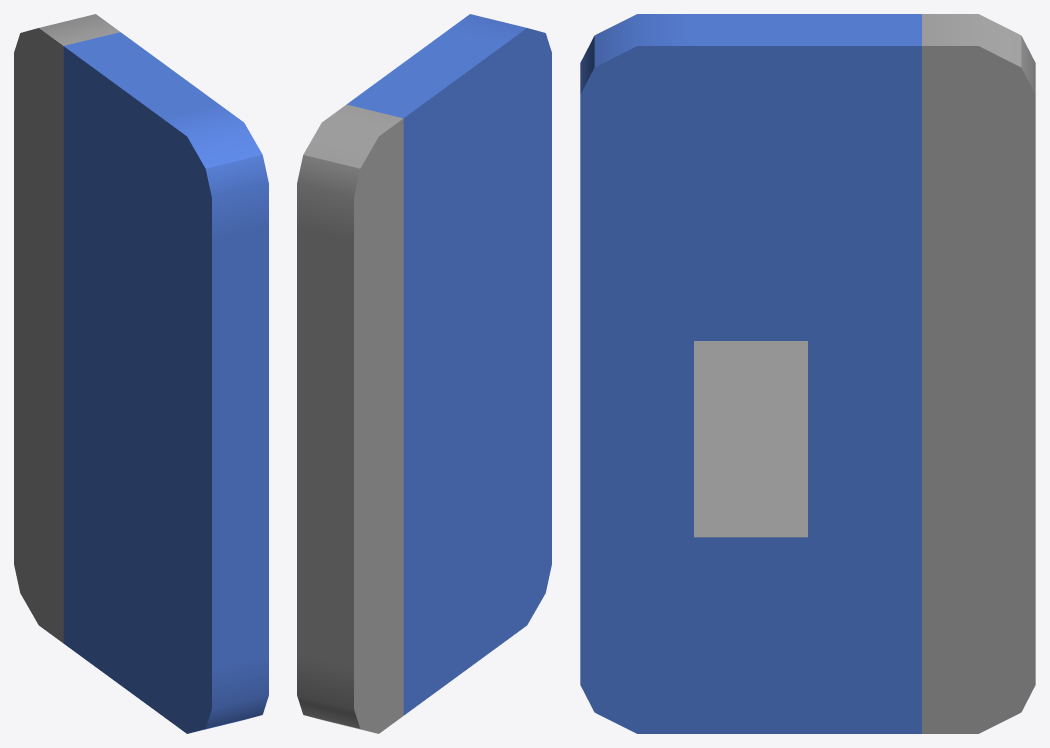
The model's file is Keycard.fbx.
3 renders of one model, left to right at view 1: azimuth 30°, elevation 25°; view 2: azimuth 150°, elevation 25°; view 3: azimuth 270°, elevation 25°, orthographic. The views are drawn at different scales.
Visible parts, largest first — view 1: pCube1; view 2: pCube1; view 3: pCube1.
Part boxes in pixels (x1,y1,x2,y2): pCube1: (14, 14, 268, 733); pCube1: (297, 14, 551, 733); pCube1: (580, 14, 1035, 733).
Size of the model in its own units: 10 by 100 by 60.
